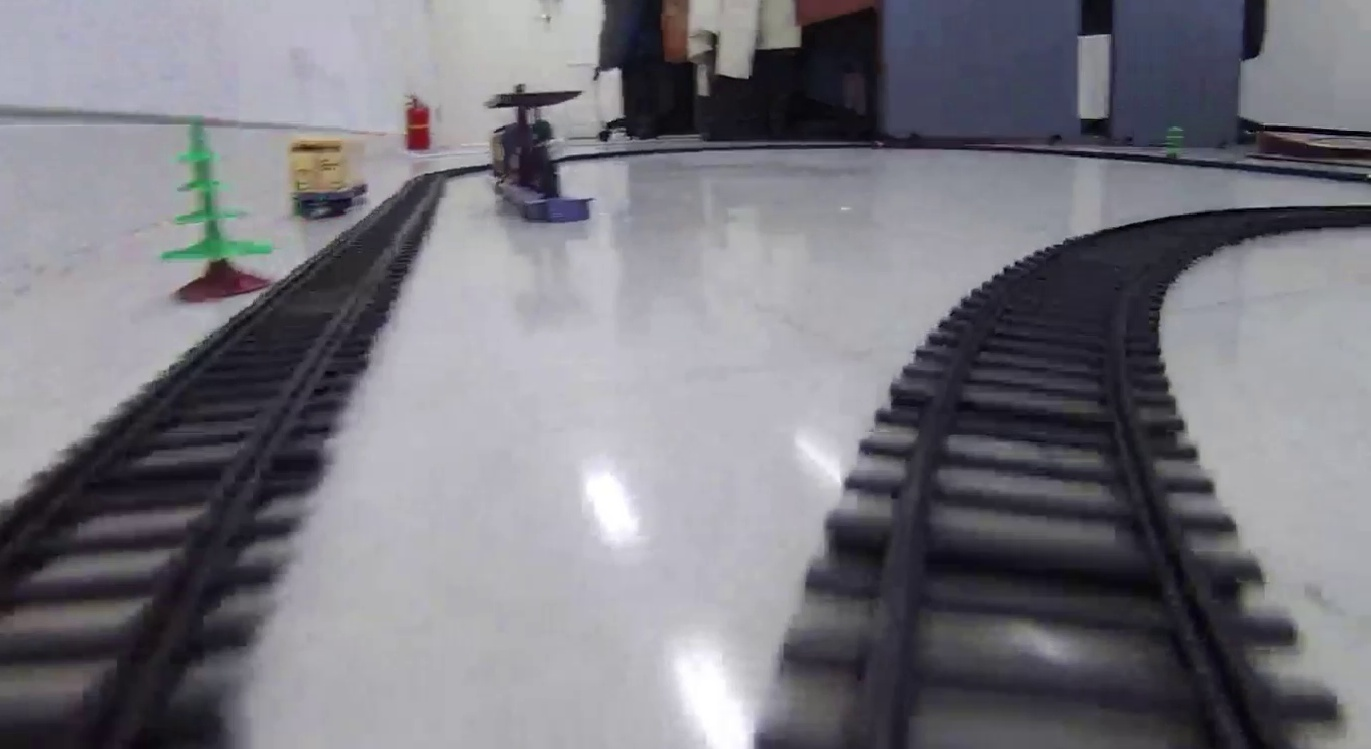tree: (157, 119, 272, 300)
